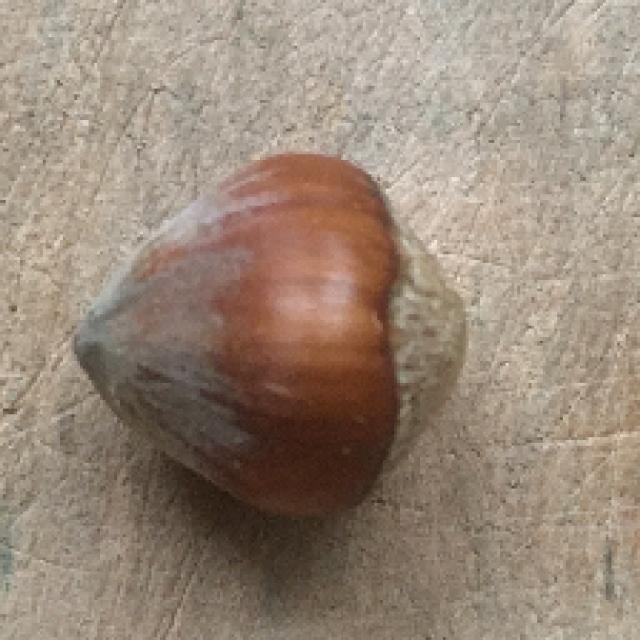qualityHazelnut: (77, 149, 469, 528)
